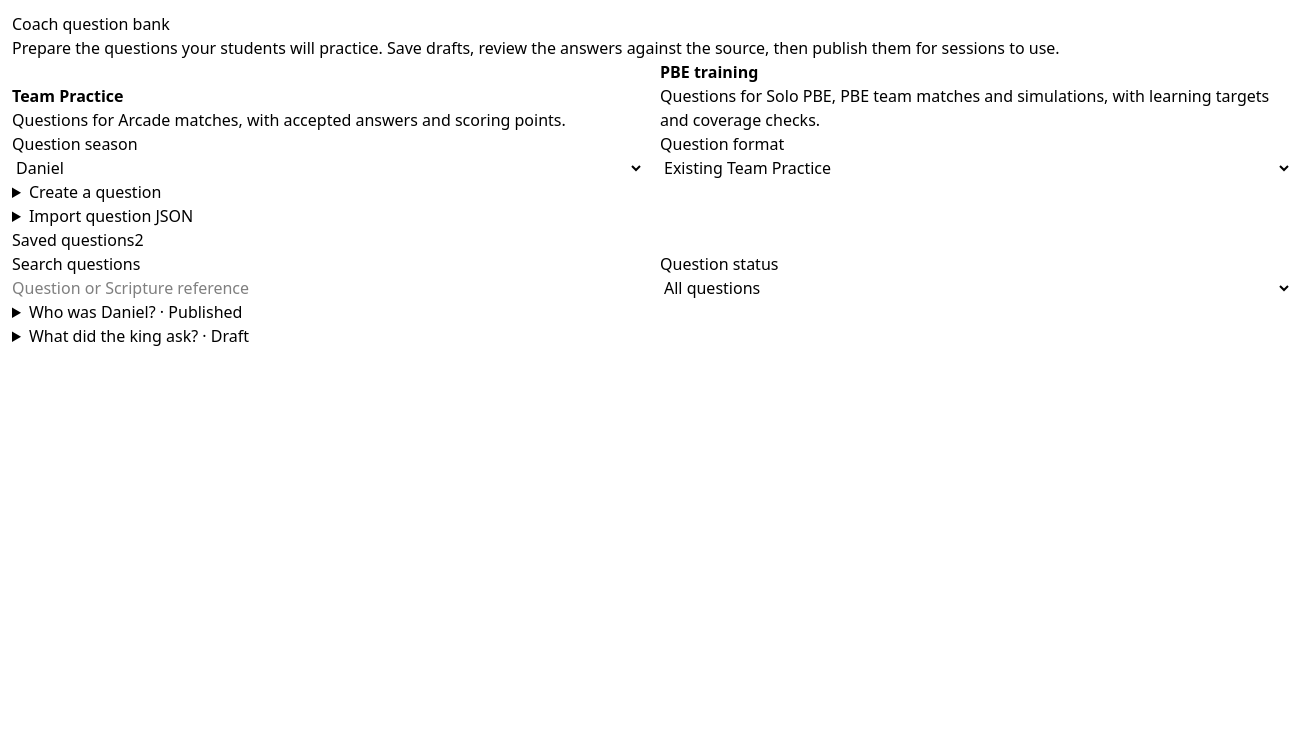
Test: offers only the selected season's source books and clears a stale source after season change
Click the heading "Create a question" at point(95, 192), box [29, 181, 161, 203]
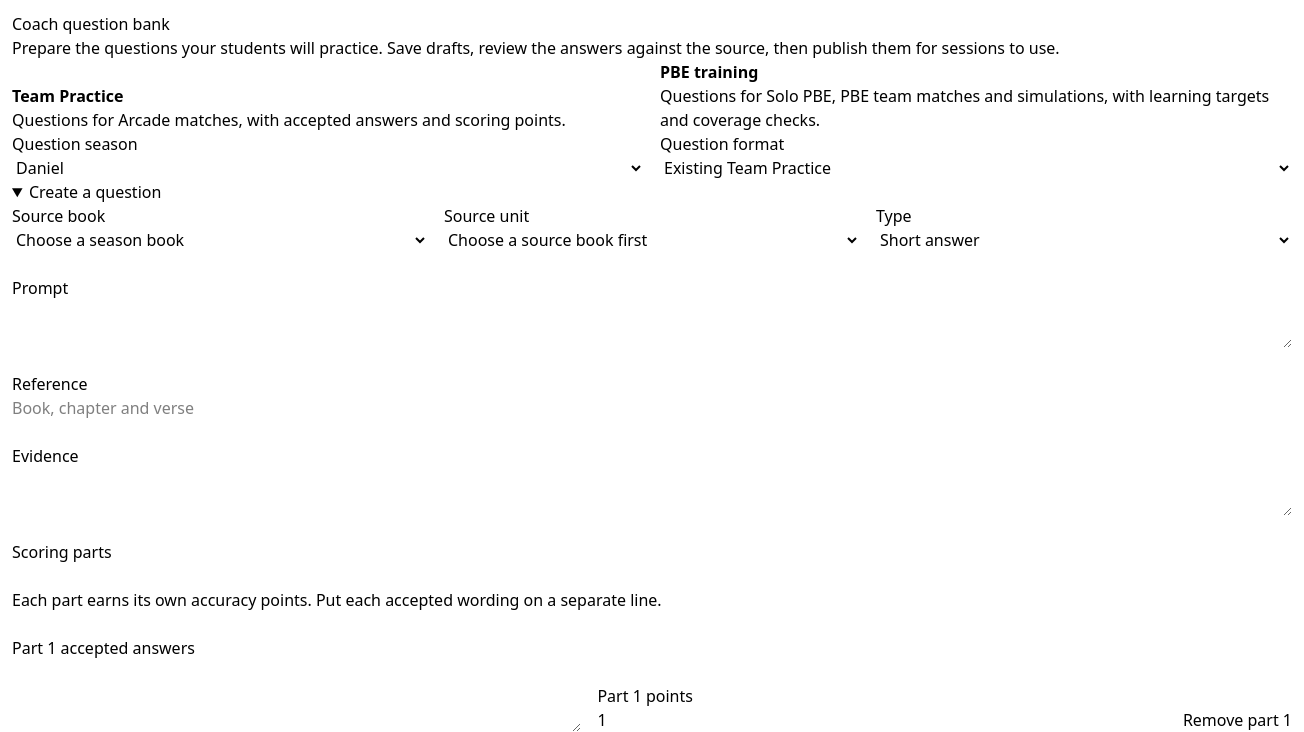
Select "Ephesians" in the dropdown labelled "Source book" at point(220, 240), box [12, 228, 428, 252]
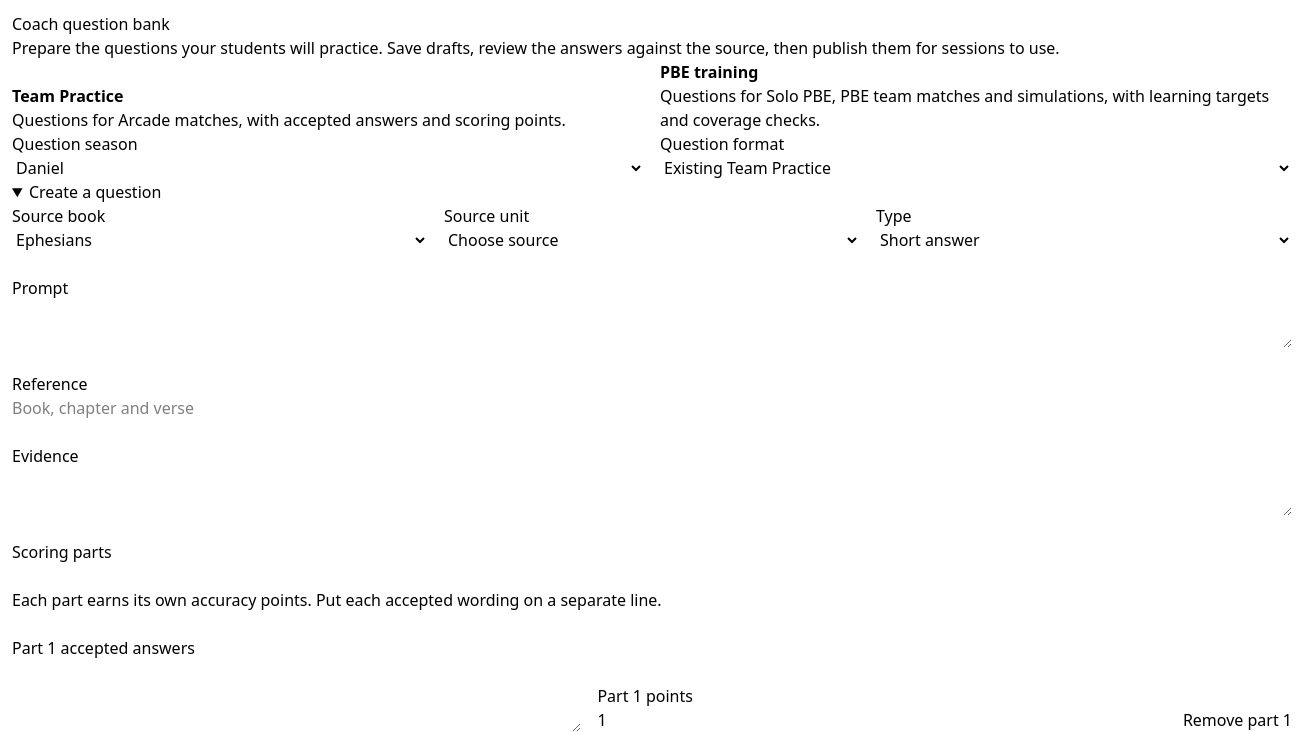
Select "Ephesians 1:1" in the dropdown labelled "Source unit" at point(652, 240), box [444, 228, 860, 252]
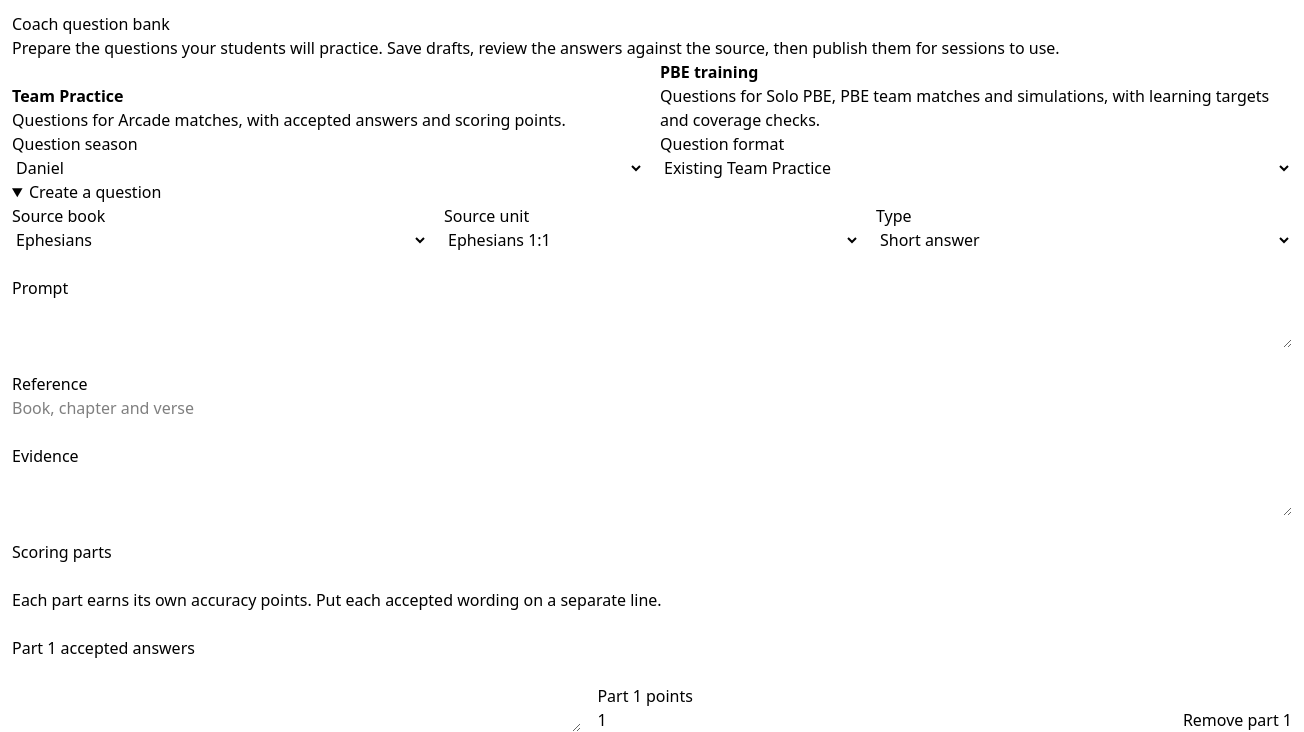
Select "Joshua" in the dropdown labelled "Question season" at point(328, 168), box [12, 156, 644, 180]
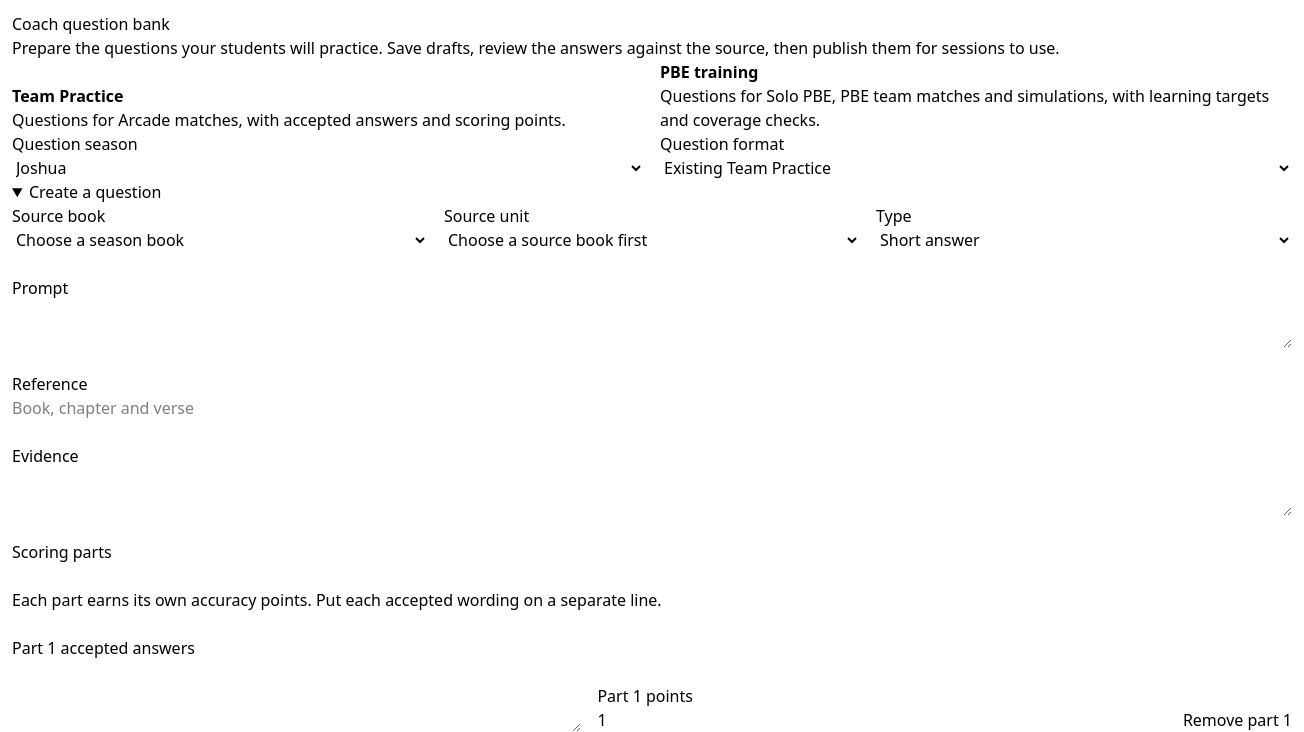
Now the dropdown labelled "Source unit" is disabled, box [444, 228, 860, 252]
